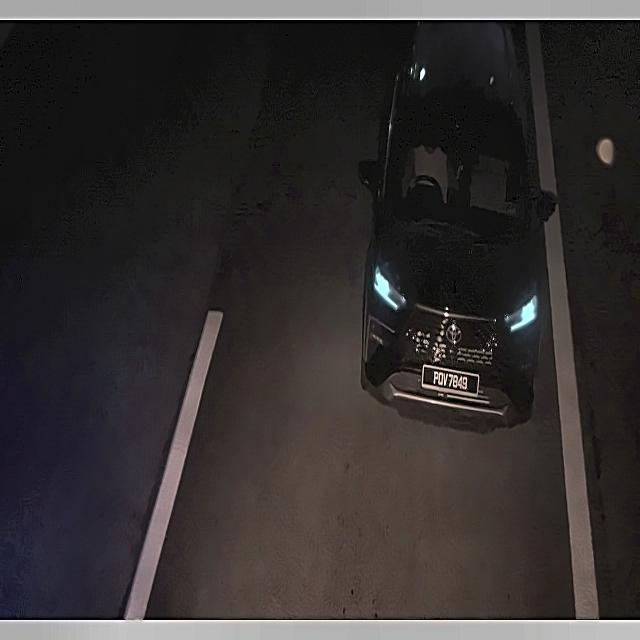car: (422, 359, 481, 403)
